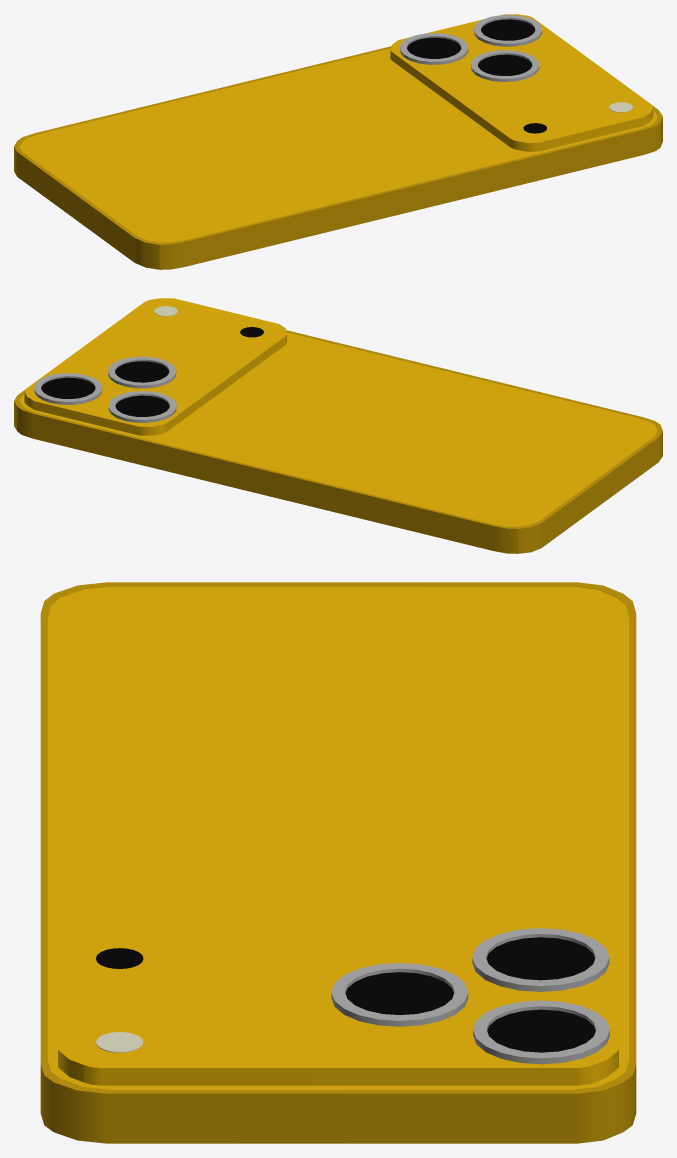
File: Phone_Pro_Orange.fbx
3 views of the same model, one above another, from view 1: azimuth 30°, elevation 25°; view 2: azimuth 150°, elevation 25°; view 3: azimuth 270°, elevation 25° (orthographic). The views are drawn at different scales.
Parts seen in each view (by area): view 1: polySurface202; view 2: polySurface202; view 3: polySurface202.
Boxes of the visible parts, box(x1,y1,x2,y2) form: polySurface202: box(14, 14, 662, 269); polySurface202: box(14, 298, 662, 553); polySurface202: box(40, 582, 636, 1143).
Size of the model in its own units: 1.74 by 0.1161 by 0.8572.
